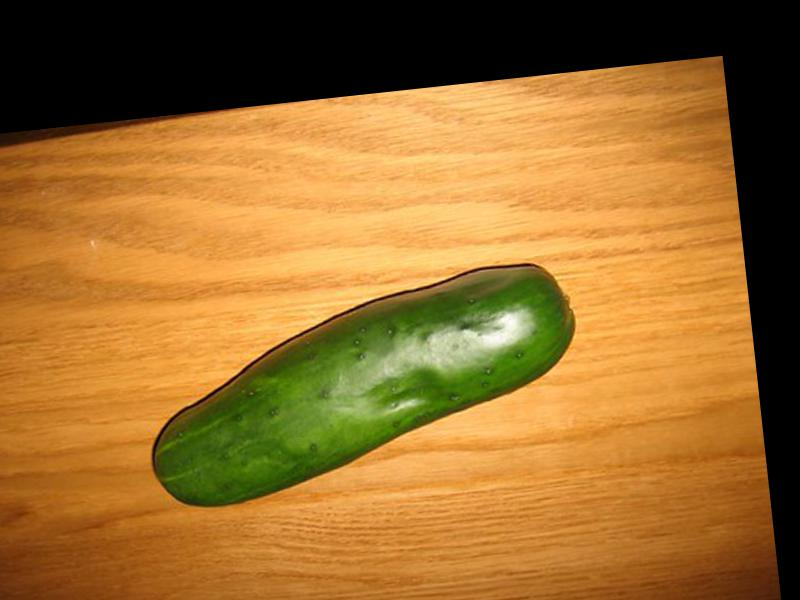Cucumber: (134, 259, 584, 510)
